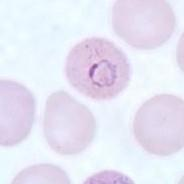Infected: (66, 37, 132, 99)
Uninfected: (44, 90, 95, 155), (110, 0, 176, 49), (132, 94, 184, 155)
